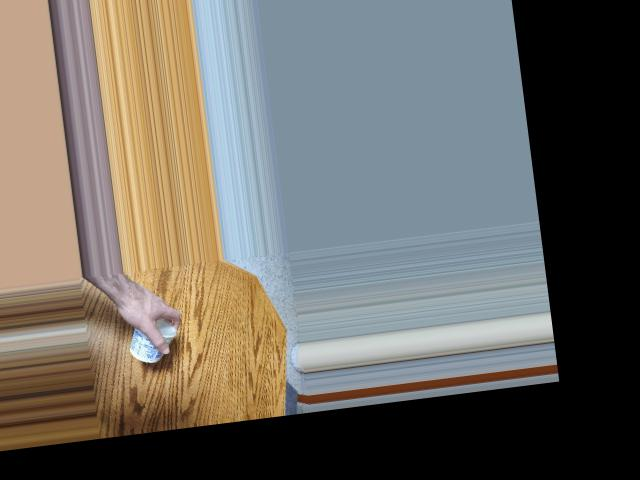cotage: (120, 316, 181, 367)
